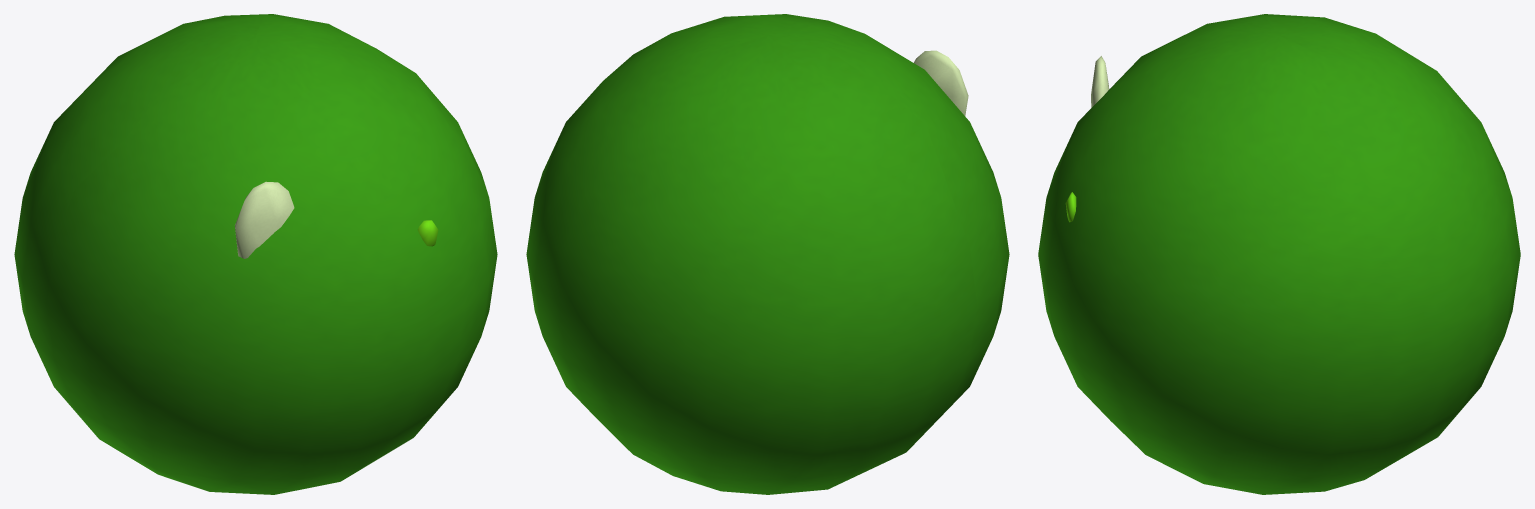
The model's file is SM_toxic_bubble_LOD1.fbx.
3 views of the same model, side by side, from view 1: azimuth 30°, elevation 25°; view 2: azimuth 150°, elevation 25°; view 3: azimuth 270°, elevation 25° (orthographic).
Visible parts, largest first — view 1: SM_toxic_bubble_LOD1; view 2: SM_toxic_bubble_LOD1; view 3: SM_toxic_bubble_LOD1.
Part boxes in pixels (box(x1,y1,x2,y2)): SM_toxic_bubble_LOD1: box(14, 14, 497, 494); SM_toxic_bubble_LOD1: box(526, 14, 1009, 494); SM_toxic_bubble_LOD1: box(1038, 14, 1520, 494).
Bounding box in the file's own units: 1 × 1 × 1.
